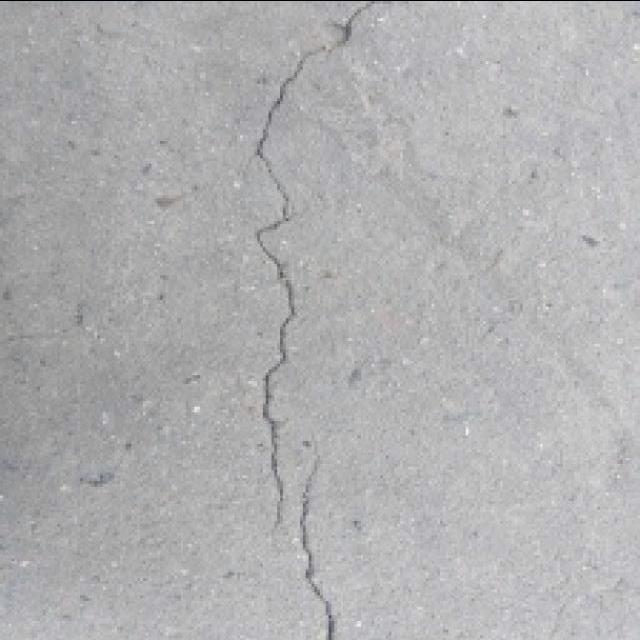SurfaceCrack: (222, 0, 414, 640)
